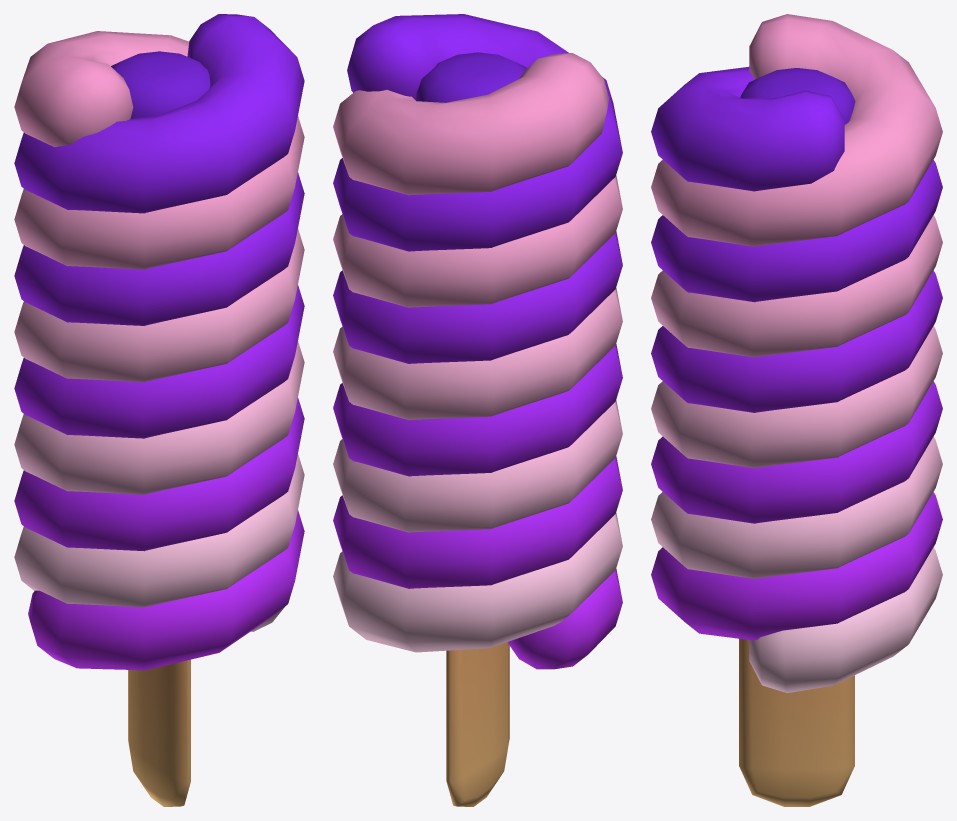
File: Ice_Cream_V1_03.fbx
3 views of the same model, side by side, from view 1: azimuth 30°, elevation 25°; view 2: azimuth 150°, elevation 25°; view 3: azimuth 270°, elevation 25° (orthographic).
Parts seen in each view (by area): view 1: Ice_Cream_V1_03; view 2: Ice_Cream_V1_03; view 3: Ice_Cream_V1_03.
Boxes of the visible parts, bbox=[...] form: Ice_Cream_V1_03: bbox=[14, 14, 304, 806]; Ice_Cream_V1_03: bbox=[333, 14, 622, 806]; Ice_Cream_V1_03: bbox=[651, 14, 942, 806].
Bounding box in the file's own units: 20.02 × 59.42 × 20.97.
